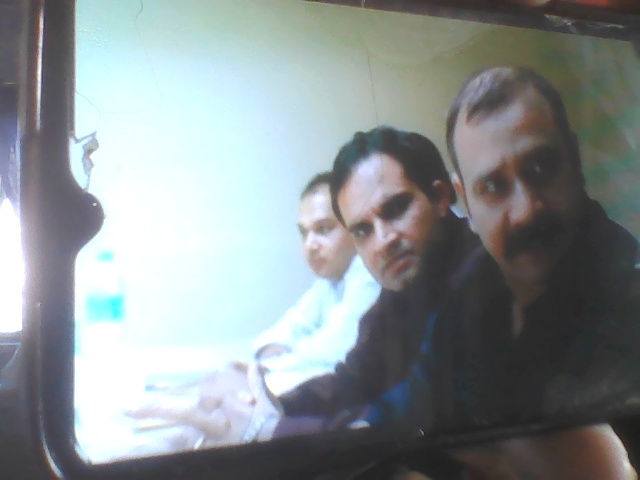fake: (445, 56, 602, 278), (331, 121, 455, 297)
